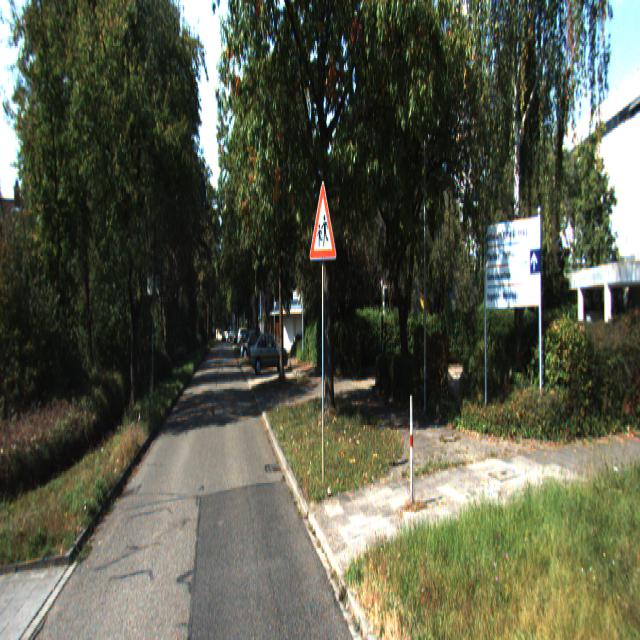Car: (248, 330, 288, 376)
